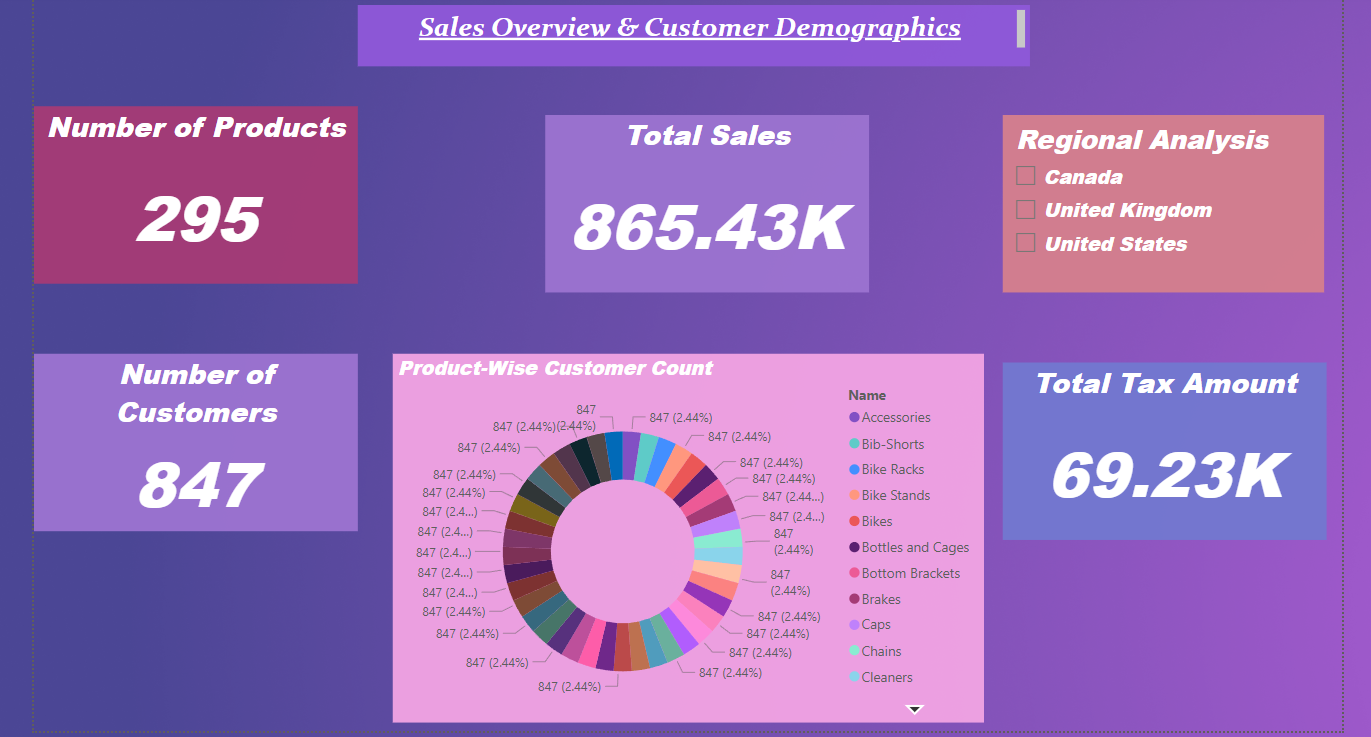

The page's visual inventory and layout, read from the dashboard file:
{"tool":"powerbi","page":{"name":"Page 1","canvas":[1280,720],"ordinal":0},"visuals":[{"type":"card","title":"Number of Products","fields":{"Values":["CountNonNull(Product.Product_ID)"]},"box":[0,108.8,316.7,173.6],"z":0},{"type":"card","title":"Number of Customers","fields":{"Values":["CountNonNull(Customer.Customer_ID)"]},"box":[0,351,316.7,173.6],"z":1000},{"type":"card","title":"Total Sales","fields":{"Values":["Sum(SalesOrderHeader.Sub_Total)"]},"box":[500.1,117.4,316.7,173.6],"z":2000},{"type":"donutChart","title":"Product-Wise Customer Count","fields":{"Y":["CountNonNull(Customer.Customer_ID)"],"Category":["ProductCategory.Name"]},"box":[351,351,578.4,360.7],"z":3000},{"type":"slicer","fields":{"Values":["Address.Country_Region"]},"box":[947.7,117.4,314.3,173.6],"z":4000},{"type":"card","title":"Total Tax Amount","fields":{"Values":["Sum(SalesOrderHeader.Tax_Amt)"]},"box":[947.7,359.5,316.7,173.6],"z":5000},{"type":"textbox","box":[316.7,9.8,657.9,59.9],"z":6000}]}

Visuals, with their boxes on the page's 1280x720 design canvas (x1, y1, x2, y2). These are canvas units, not pixel positions in the 1371x737 screenshot, which may show the page scaled, cropped or inside an application window:
"Number of Products" card: (left=0, top=109, right=317, bottom=282)
"Number of Customers" card: (left=0, top=351, right=317, bottom=525)
"Total Sales" card: (left=500, top=117, right=817, bottom=291)
"Product-Wise Customer Count" donutChart: (left=351, top=351, right=929, bottom=712)
slicer - Address.Country_Region: (left=948, top=117, right=1262, bottom=291)
"Total Tax Amount" card: (left=948, top=360, right=1264, bottom=533)
textbox: (left=317, top=10, right=975, bottom=70)
